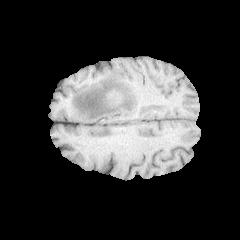glioma: (66, 69, 144, 123)
